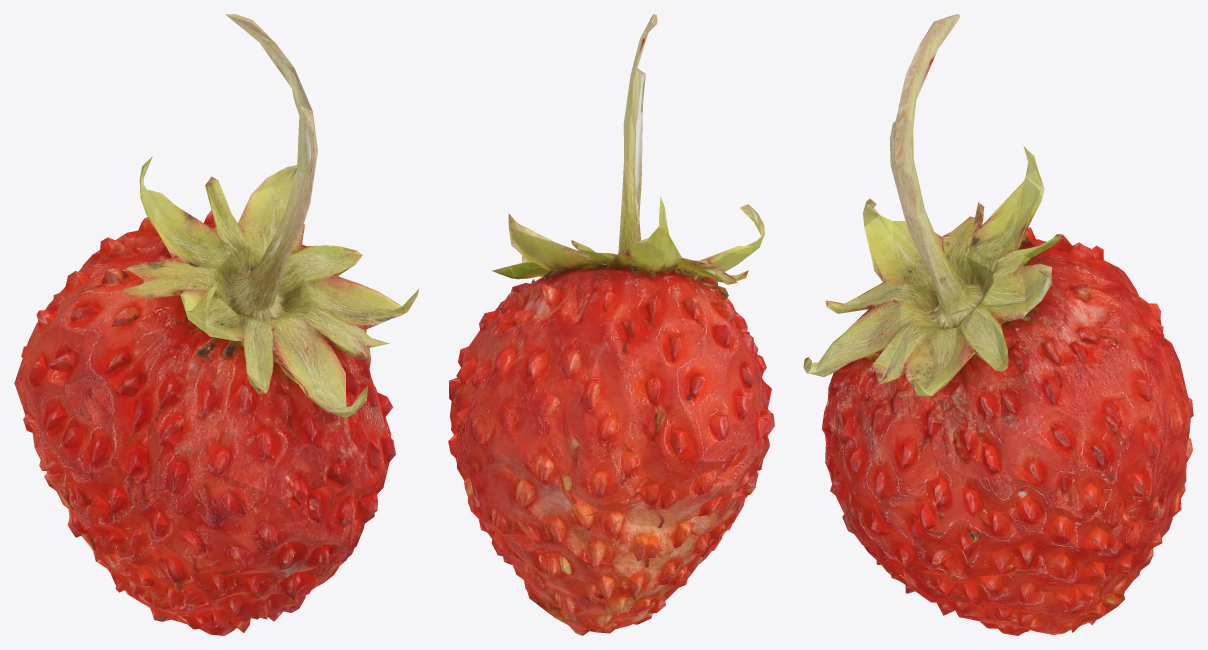
The model's file is realstrawberry.glb.
3 views of the same model, side by side, from view 1: azimuth 30°, elevation 25°; view 2: azimuth 150°, elevation 25°; view 3: azimuth 270°, elevation 25° (orthographic). The views are drawn at different scales.
Parts seen in each view (by area): view 1: Object_2; view 2: Object_2; view 3: Object_2.
Part boxes in pixels (left/top/right/bottom): Object_2: left=14, top=14, right=419, bottom=635; Object_2: left=448, top=14, right=774, bottom=635; Object_2: left=803, top=14, right=1193, bottom=635.
Size of the model in its own units: 0.0209 by 0.04 by 0.0231.
1 material, 1 textured.
